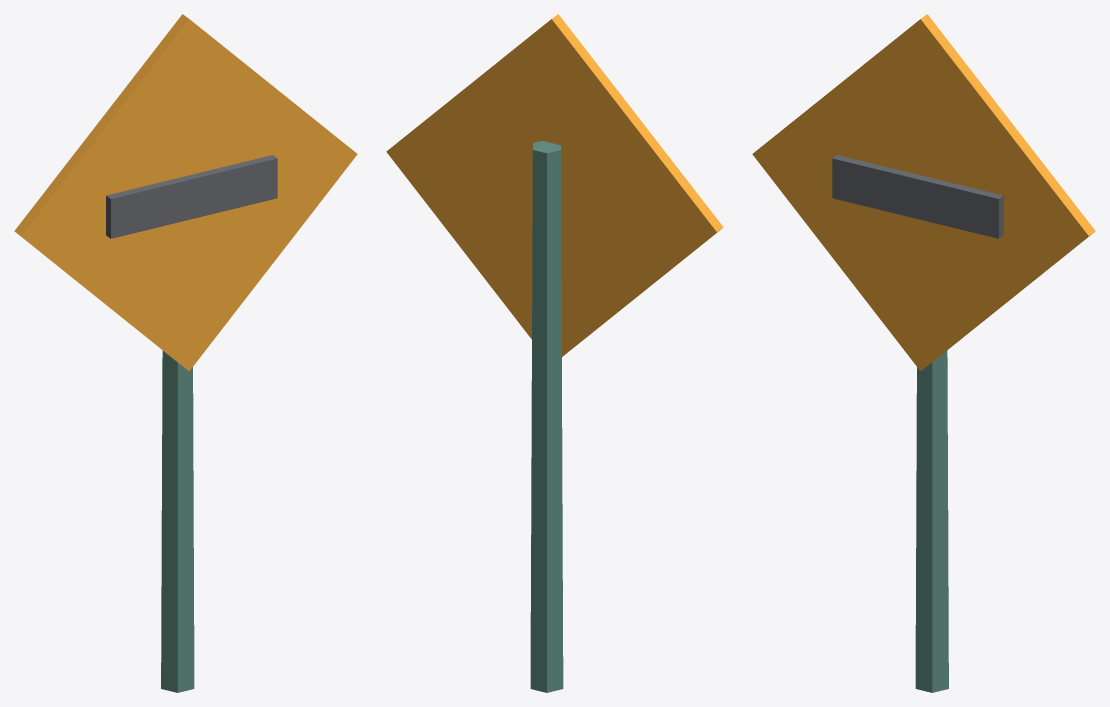
Rendered from slowsign.glb.
3 views of the same model, side by side, from view 1: azimuth 30°, elevation 25°; view 2: azimuth 150°, elevation 25°; view 3: azimuth 330°, elevation 25° (orthographic).
Visible parts, largest first — view 1: slow-sign; view 2: slow-sign; view 3: slow-sign.
Part boxes in pixels (box(x1,y1,x2,y2)): slow-sign: box(14, 14, 357, 692); slow-sign: box(386, 14, 723, 692); slow-sign: box(752, 14, 1095, 692).
Size of the model in its own units: 1.41 by 2.71 by 0.1806.
